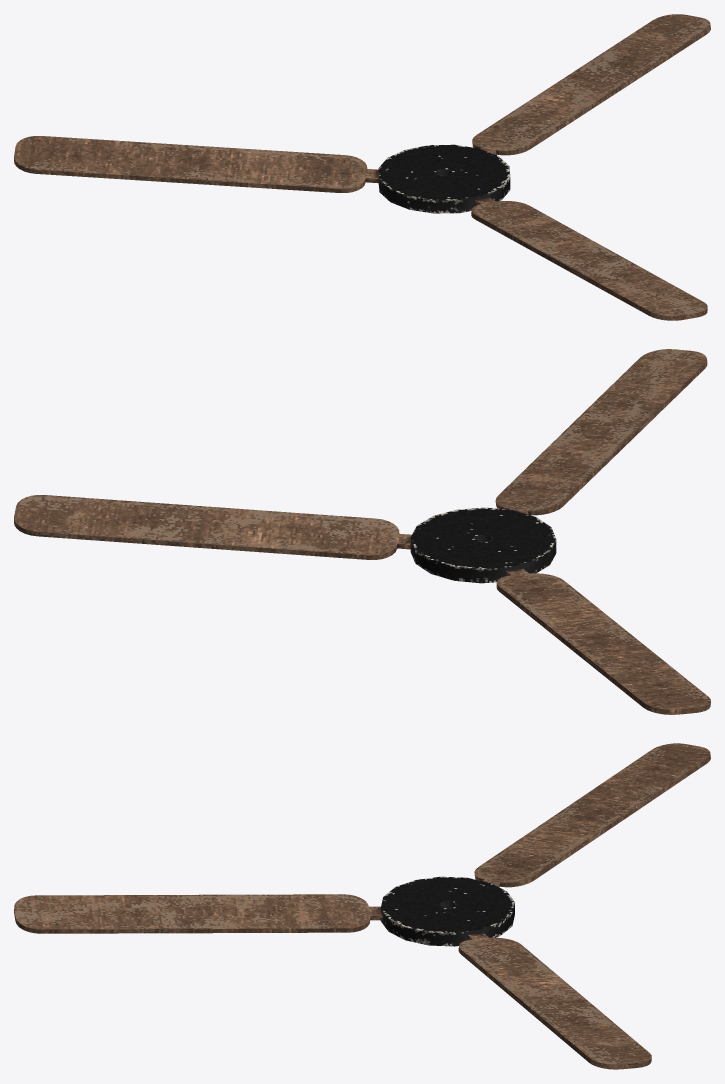
Rendered from Blades.glb.
3 renders of one model, top to bottom at view 1: azimuth 30°, elevation 25°; view 2: azimuth 150°, elevation 25°; view 3: azimuth 270°, elevation 25°, orthographic. The views are drawn at different scales.
Visible parts, largest first — view 1: Blades; view 2: Blades; view 3: Blades.
Boxes of the visible parts, x1,y1,x2,y2 form: Blades: (14,14,710,320); Blades: (14,349,710,714); Blades: (14,743,710,1069).
Size of the model in its own units: 1.38 by 0.0465 by 1.25.
Materials: 1 (1 with a texture image).
